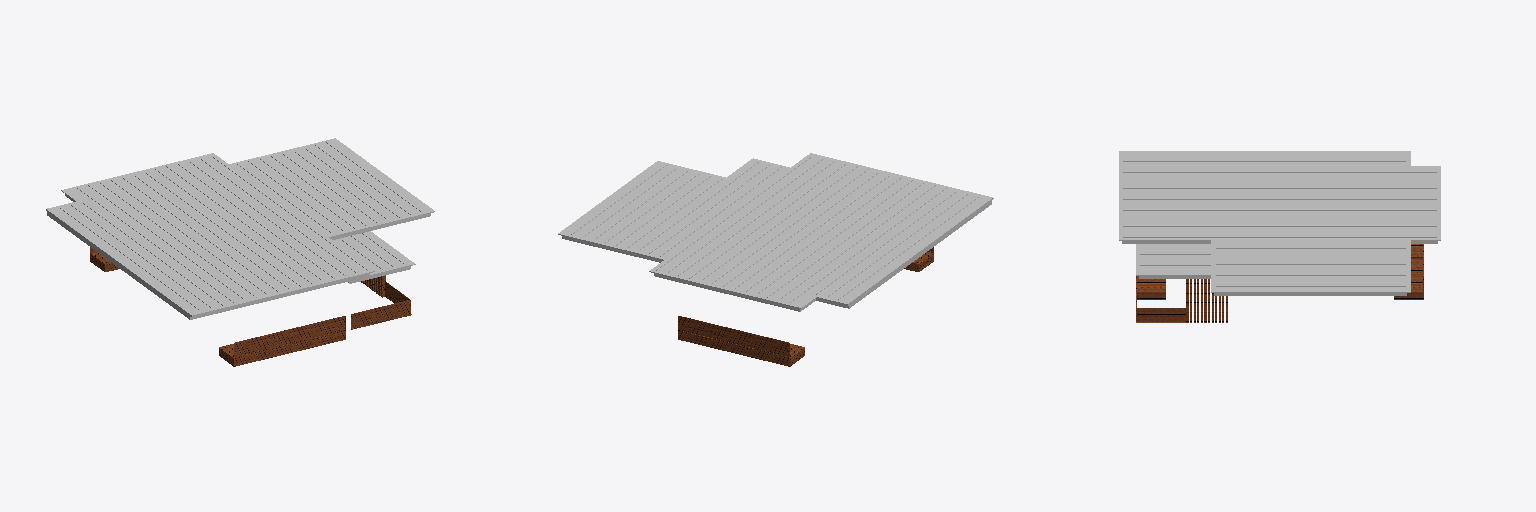
The picture shows the model from 3 angles: view 1: azimuth 30°, elevation 25°; view 2: azimuth 150°, elevation 25°; view 3: azimuth 270°, elevation 25°; orthographic projection.
Visible parts, largest first — view 1: roof; view 2: roof; view 3: roof.
Boxes of the visible parts, box(x1,y1,x2,y2) form: roof: box(46, 138, 434, 366); roof: box(558, 153, 993, 366); roof: box(1119, 151, 1440, 322).
Bounding box in the file's own units: 14.48 × 3.36 × 13.97.
2 materials, 1 textured.